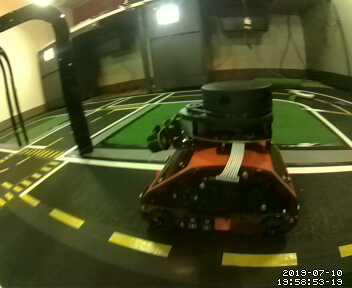pheeno: (139, 81, 304, 242)
